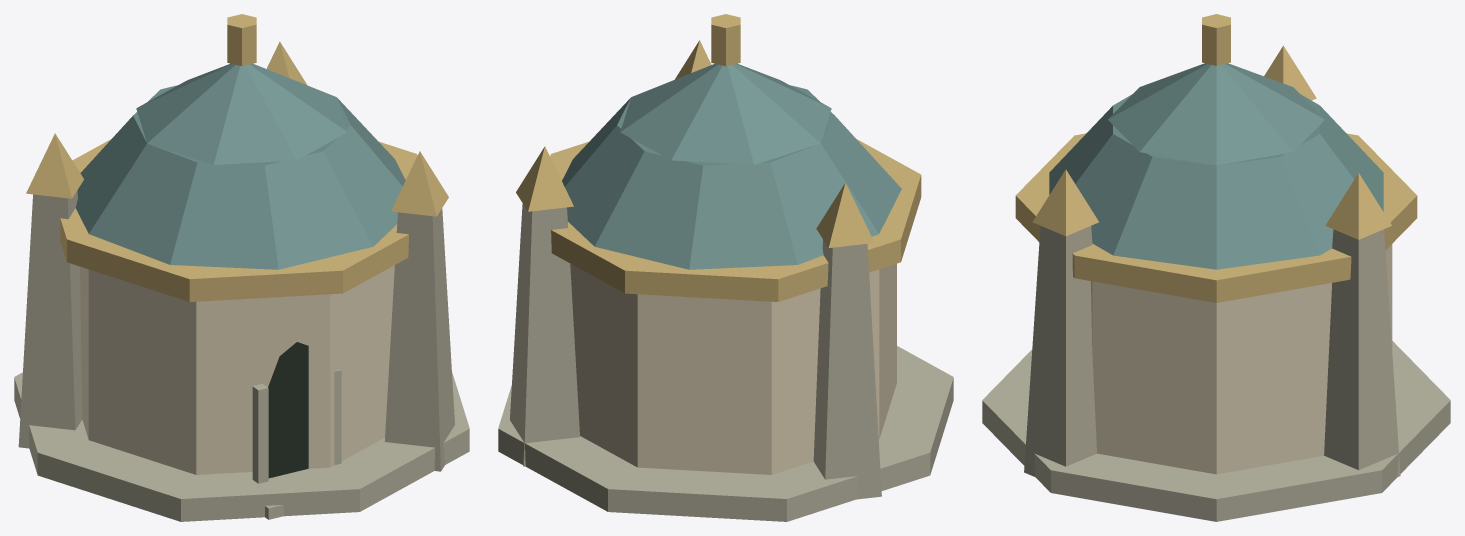
The model's file is sanctum.glb.
3 views of the same model, side by side, from view 1: azimuth 30°, elevation 25°; view 2: azimuth 150°, elevation 25°; view 3: azimuth 270°, elevation 25° (orthographic).
Visible parts, largest first — view 1: Building; view 2: Building; view 3: Building.
Boxes of the visible parts, x1,y1,x2,y2 form: Building: (14, 14, 469, 521); Building: (498, 14, 953, 521); Building: (982, 14, 1450, 521).
Size of the model in its own units: 56 by 53 by 56.
